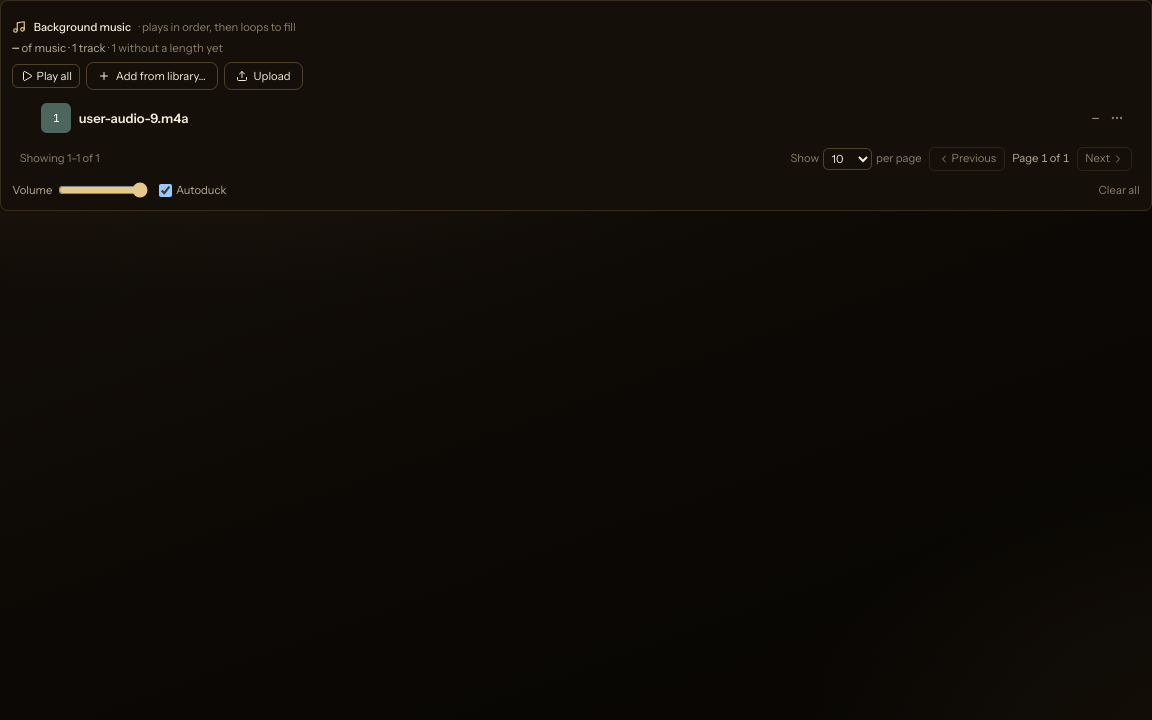
Test: MusicPicker — remove vocals › a loose file in the list (a Timeline upload) can have its vocals removed: it is saved to the library first
Click the button named "more for user-audio-9.m4a": (1117, 118) top-left (1106, 108), bottom-right (1128, 129)
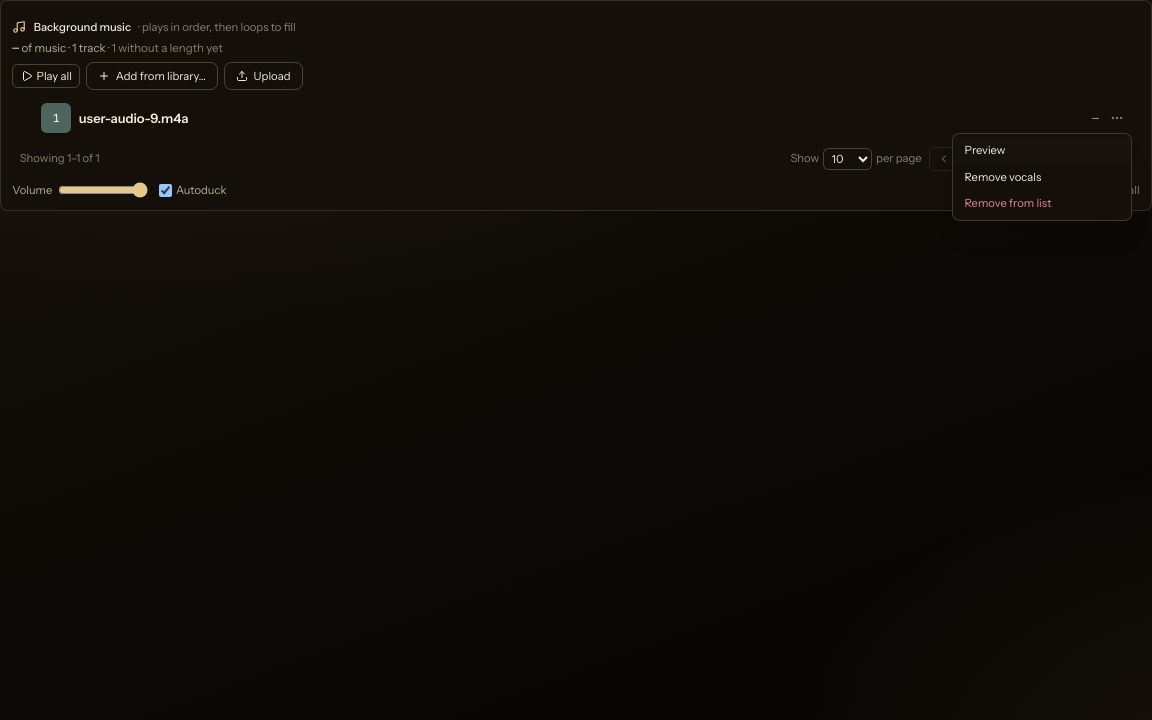
Click the menu item "Remove vocals": (1042, 177) top-left (953, 164), bottom-right (1131, 190)
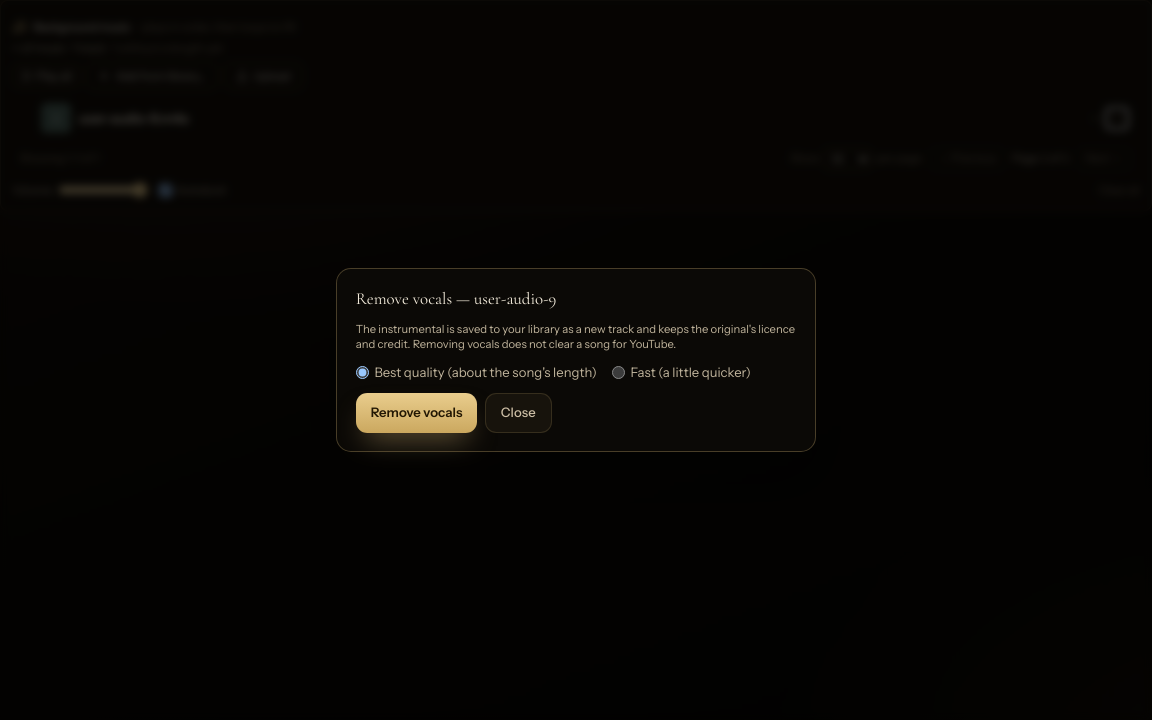
Result: the dialog named "remove vocals from user-audio-9" is shown at top-left (336, 268), bottom-right (816, 452)
